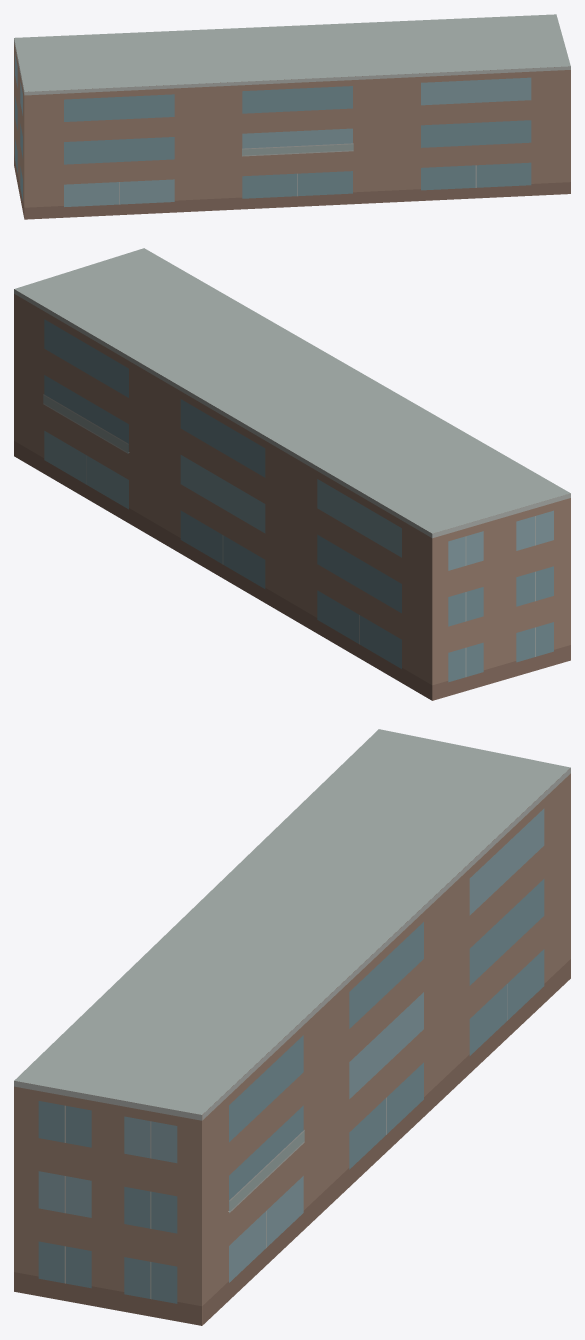
File: survey-upis-32527537.glb
The picture shows the model from 3 angles, top to bottom: view 1: azimuth 30°, elevation 25°; view 2: azimuth 150°, elevation 25°; view 3: azimuth 270°, elevation 25°; orthographic projection. The views are drawn at different scales.
Visible parts, largest first — view 1: survey-upis-32527537.tmp; view 2: survey-upis-32527537.tmp; view 3: survey-upis-32527537.tmp.
Boxes of the visible parts, x1,y1,x2,y2 form: survey-upis-32527537.tmp: (14, 14, 570, 219); survey-upis-32527537.tmp: (14, 248, 570, 700); survey-upis-32527537.tmp: (14, 729, 570, 1325).
Size of the model in its own units: 34.74 by 8.85 by 21.18.
